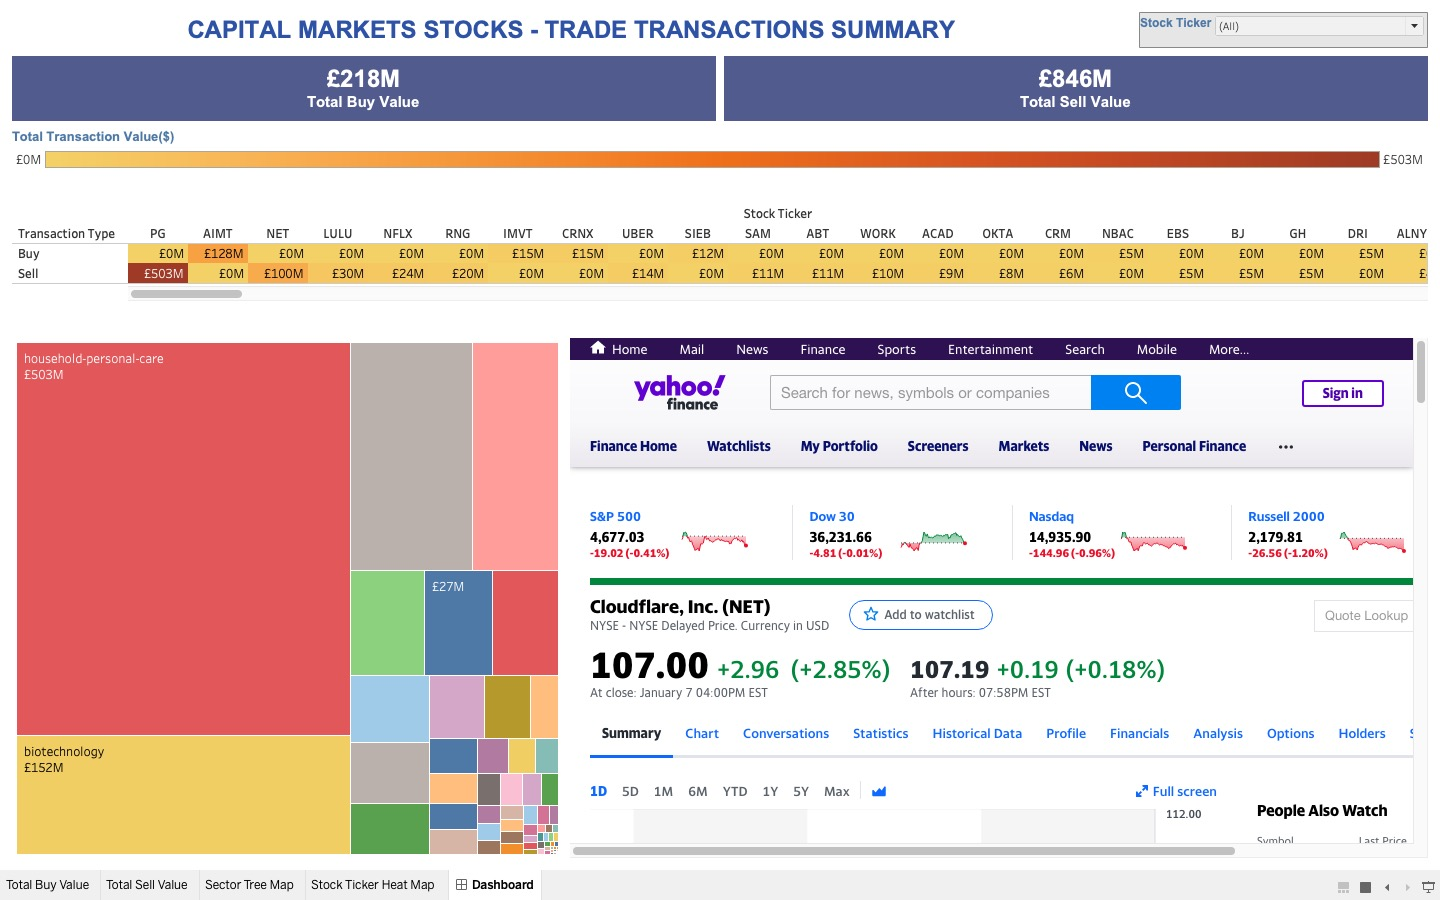

The dashboard page shown, as its layout file describes it:
{"tool":"tableau","page":{"name":"Dashboard","canvas":[1000,1000],"units":"permille","ordinal":0},"visuals":[{"type":"text","box":[5.7,11.4,782.2,50.7]},{"type":"filter","title":"Stock Ticker Heat Map","param":"[federated.0gxb7kt1hezulk14wyylv0hmsm2s].[none:Symbol:nk]","box":[787.9,11.4,206.5,50.7]},{"type":"worksheet","title":"Total Buy Value","mark":"Automatic","box":[5.7,62.1,494.1,83]},{"type":"worksheet","title":"Total Sell Value","mark":"Automatic","box":[499.8,62.1,494.6,83]},{"type":"legend","title":"Stock Ticker Heat Map","param":"[federated.0gxb7kt1hezulk14wyylv0hmsm2s].[sum:Value($):qk]","box":[5.7,145.1,988.7,84.6]},{"type":"worksheet","title":"Stock Ticker Heat Map","mark":"Square","rows":["Type"],"cols":["Symbol"],"box":[5.7,229.7,988.7,154.5]},{"type":"worksheet","title":"Sector Tree Map","mark":"Automatic","box":[5.7,384.2,387.6,604.4]},{"type":"web page","param":"https://finance.yahoo.com/chart/NET","box":[393.3,384.2,601,604.4]}]}

Visuals, with their boxes on the dashboard's canvas, which has no fixed pixel size, in thousandths of its width and height (x1, y1, x2, y2). These are canvas units, not pixel positions in the 1440x900 screenshot, which may show the page scaled, cropped or inside an application window:
text: (6,11,788,62)
"Stock Ticker Heat Map" filter: (788,11,994,62)
"Total Buy Value" worksheet: (6,62,500,145)
"Total Sell Value" worksheet: (500,62,994,145)
"Stock Ticker Heat Map" legend: (6,145,994,230)
"Stock Ticker Heat Map" worksheet (Square marks): (6,230,994,384)
"Sector Tree Map" worksheet: (6,384,393,989)
web page: (393,384,994,989)
